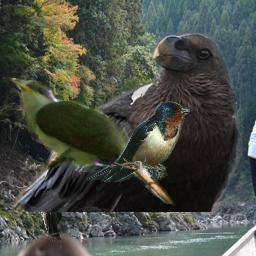Crow: (7, 28, 243, 212)
Cuckoo: (9, 78, 176, 205)
Swallow: (87, 101, 190, 182)
Woodpecker: (36, 184, 62, 251)
